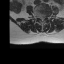CCS_stenosis: (41, 15, 43, 22)
LFS_severe_stenosis: (45, 15, 46, 19)
LLS_stenosis: (43, 15, 45, 20)
RFS_severe_stenosis: (38, 15, 40, 20)
RLS_normal: (40, 15, 41, 21)
